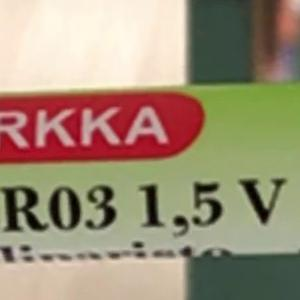keyword: (98, 168, 295, 269)
